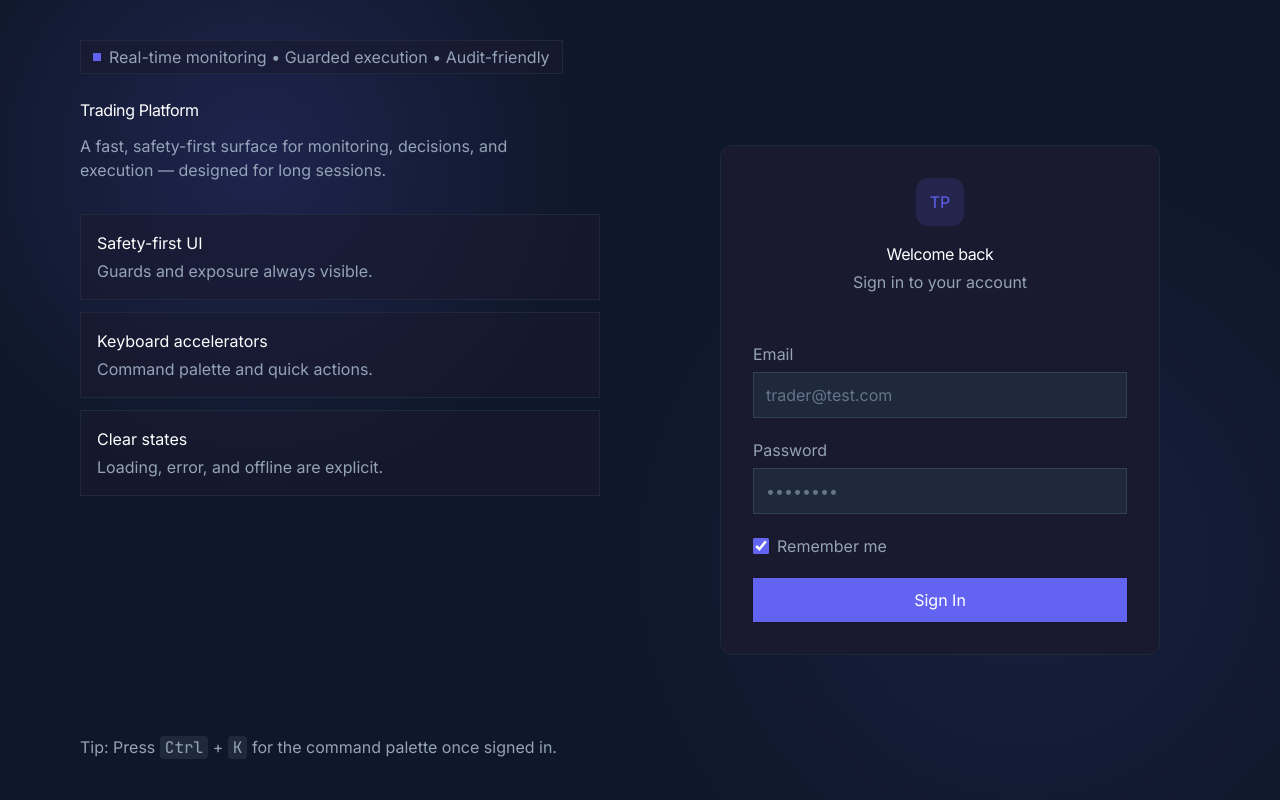
Test case: LoginPage › displays error message on login failure
Step 1. Type "test@example.com" into the field with test id "email-input" → (940, 395), box [753, 372, 1127, 418]
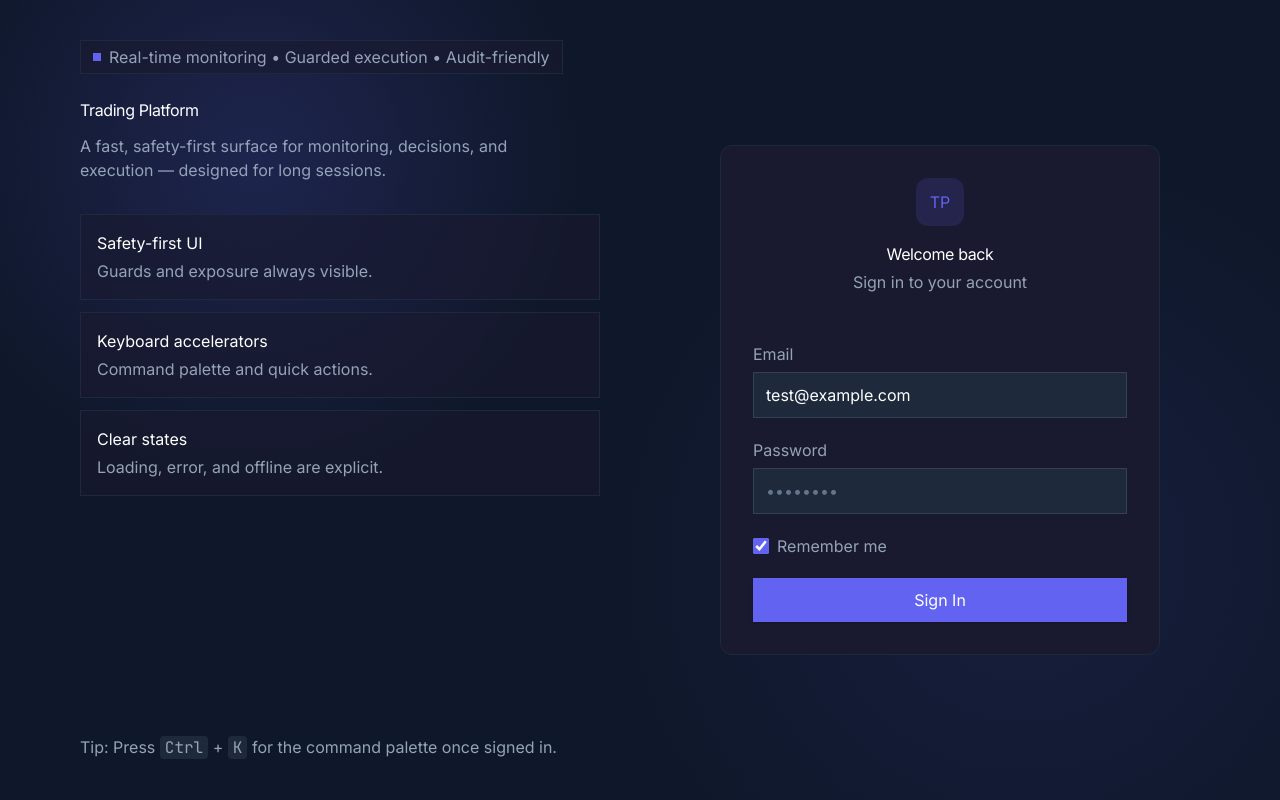
Step 2. Type "wrongpass" into the password field with test id "password-input" → (940, 491), box [753, 468, 1127, 514]
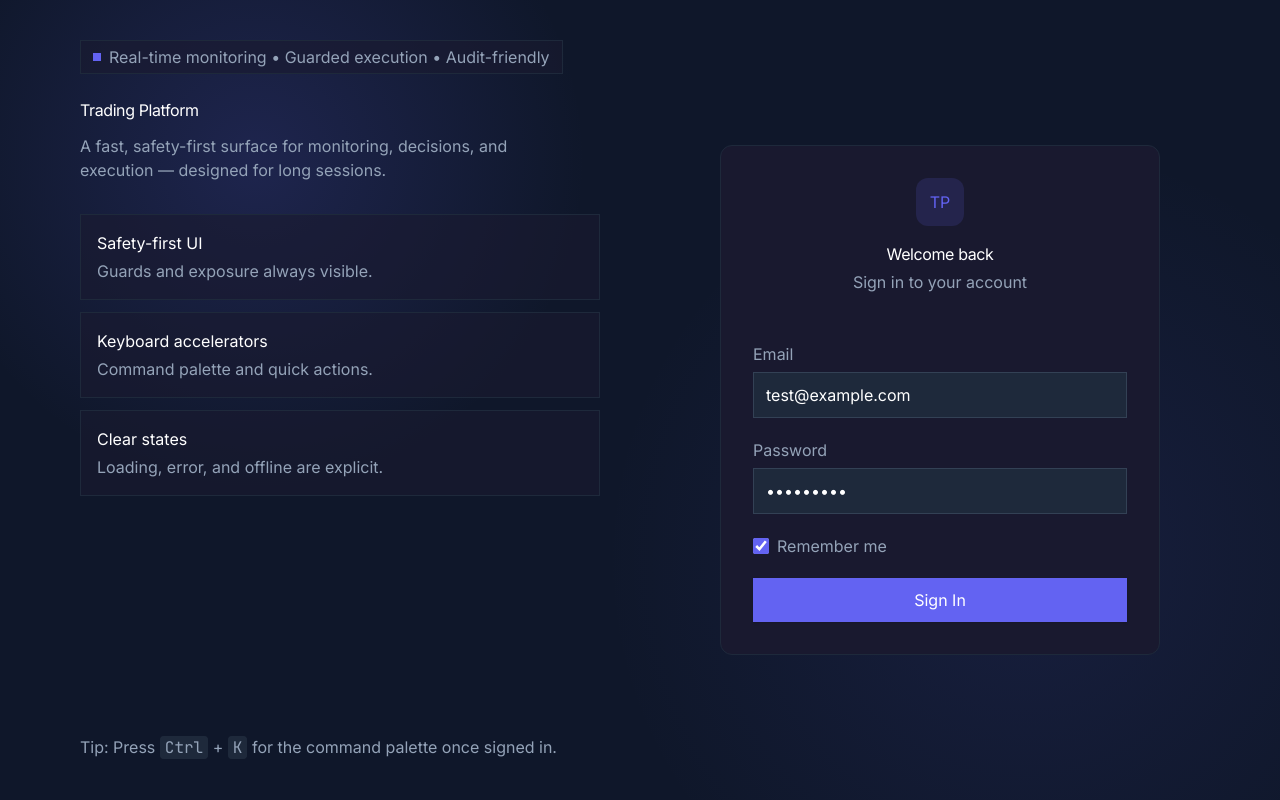
Step 3. Click the button with test id "login-button" → (940, 600), box [753, 578, 1127, 622]
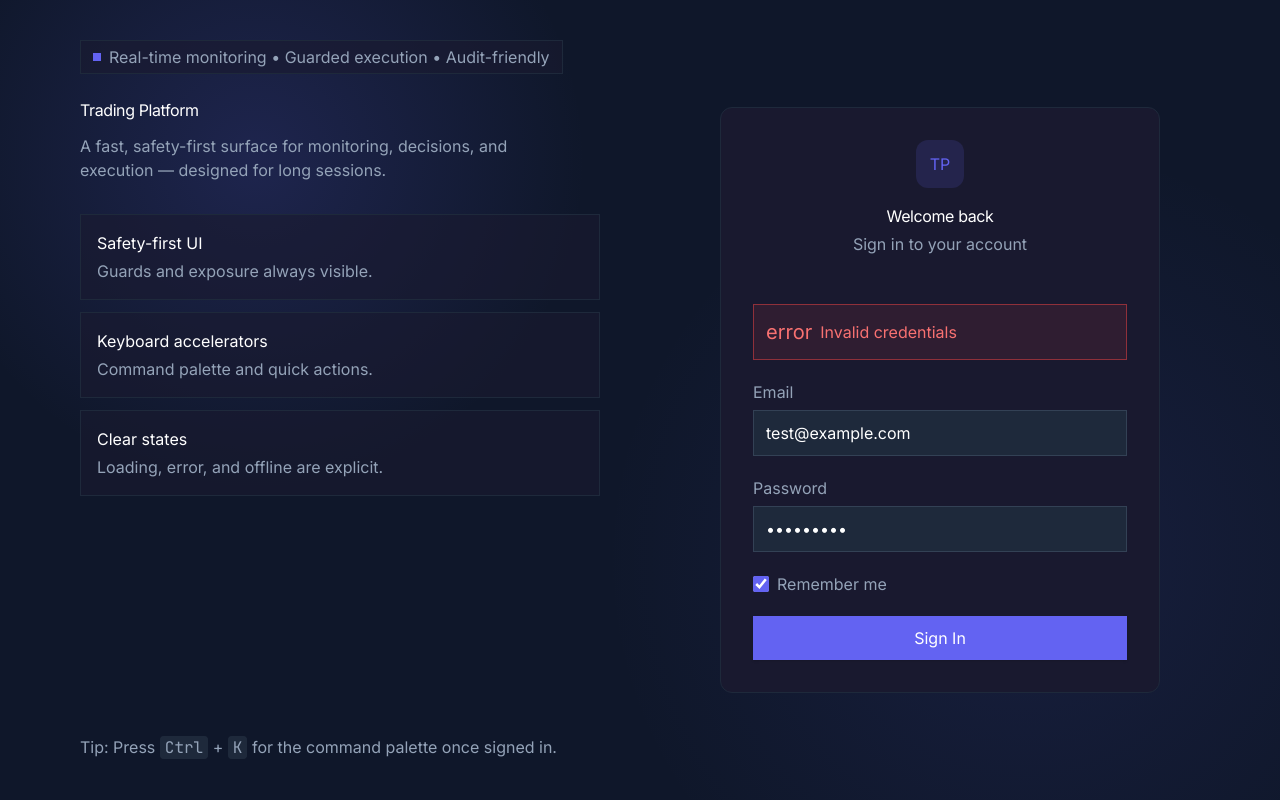
Expected: the message with test id "login-error" shows "Invalid credentials", [820, 322, 957, 342]
